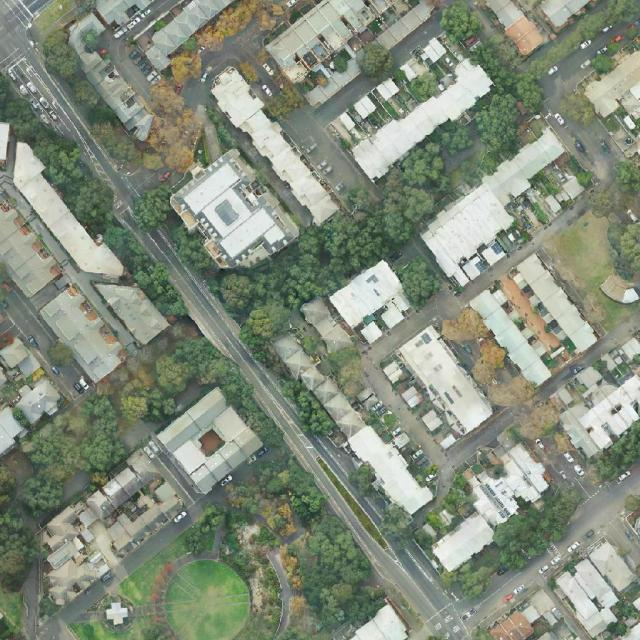building: (267, 325, 435, 520), (12, 445, 191, 616), (413, 126, 595, 292), (203, 64, 345, 227), (406, 430, 558, 576), (159, 138, 303, 287), (0, 138, 128, 293), (348, 55, 497, 184), (263, 0, 437, 110), (61, 11, 160, 150), (326, 53, 444, 160), (154, 386, 266, 498), (396, 323, 496, 439), (38, 283, 130, 384), (515, 252, 600, 354), (468, 288, 553, 390), (552, 541, 640, 639), (327, 257, 420, 349), (138, 0, 234, 72), (0, 198, 64, 300), (94, 264, 170, 347), (487, 587, 566, 640), (297, 294, 354, 358), (587, 539, 638, 594), (13, 377, 66, 429), (0, 336, 42, 386), (350, 604, 408, 639), (599, 268, 640, 313), (95, 1, 154, 25), (421, 36, 448, 63), (399, 384, 424, 410), (382, 359, 406, 385), (435, 429, 462, 451), (421, 410, 443, 433), (0, 122, 10, 162), (387, 373, 396, 384), (395, 366, 403, 376), (634, 598, 640, 609)
greenland: (250, 130, 475, 329), (223, 444, 399, 640), (146, 323, 309, 449), (0, 387, 146, 524), (444, 478, 594, 603), (32, 26, 141, 174), (539, 205, 640, 337), (207, 255, 307, 378), (436, 304, 537, 418), (98, 217, 198, 326), (157, 0, 279, 89), (470, 32, 548, 165), (125, 179, 219, 287), (520, 0, 640, 81), (180, 494, 282, 586), (341, 461, 421, 550), (0, 464, 35, 640), (146, 79, 204, 174), (273, 369, 338, 444), (421, 470, 487, 543), (391, 252, 447, 308), (582, 29, 640, 83), (324, 344, 373, 401), (515, 398, 566, 448), (121, 378, 177, 421), (555, 86, 603, 130), (355, 40, 397, 85), (28, 0, 78, 34), (265, 83, 306, 123), (436, 121, 475, 158), (74, 0, 96, 19)
metalled_road: (365, 183, 593, 375), (351, 348, 451, 471), (280, 73, 374, 189), (533, 310, 640, 400), (466, 543, 576, 628), (111, 498, 208, 583), (174, 30, 250, 116), (24, 578, 122, 640), (532, 34, 607, 112), (557, 109, 630, 187), (439, 405, 517, 474), (101, 27, 156, 107), (33, 342, 95, 404), (411, 462, 460, 530), (266, 547, 301, 639), (227, 438, 291, 488), (125, 0, 184, 39), (393, 16, 444, 60), (112, 413, 158, 457), (193, 102, 225, 163), (165, 373, 212, 414), (592, 11, 640, 48), (22, 559, 41, 640), (199, 525, 235, 567), (54, 467, 94, 504), (101, 561, 133, 598), (15, 502, 45, 534), (19, 1, 51, 15), (203, 485, 229, 502), (631, 550, 640, 579)
